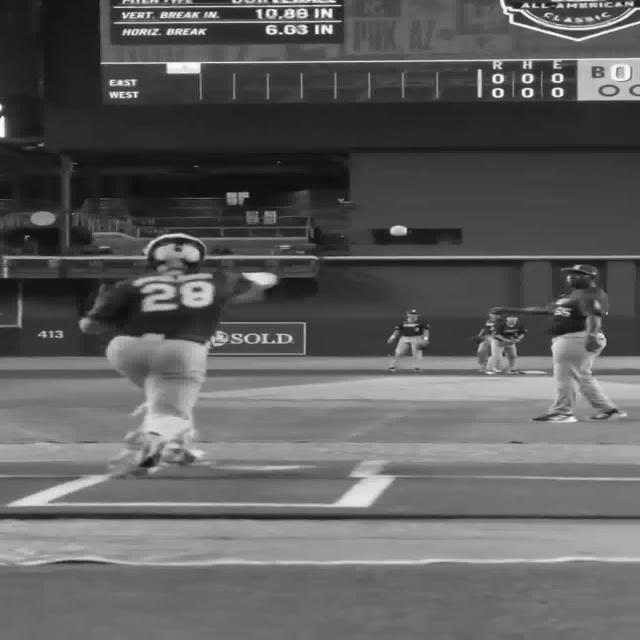base: (513, 370, 547, 375)
baseball: (389, 225, 407, 236)
shoe: (106, 430, 164, 478), (159, 448, 205, 464), (587, 408, 627, 420), (531, 413, 577, 423), (506, 369, 526, 374), (387, 366, 396, 371), (411, 368, 421, 372)
